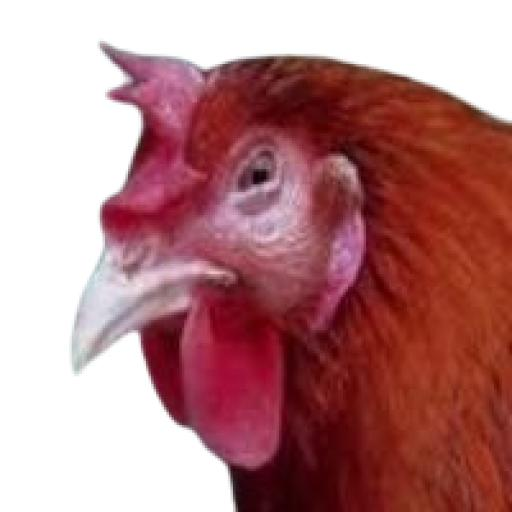disease: (181, 102, 326, 309)
